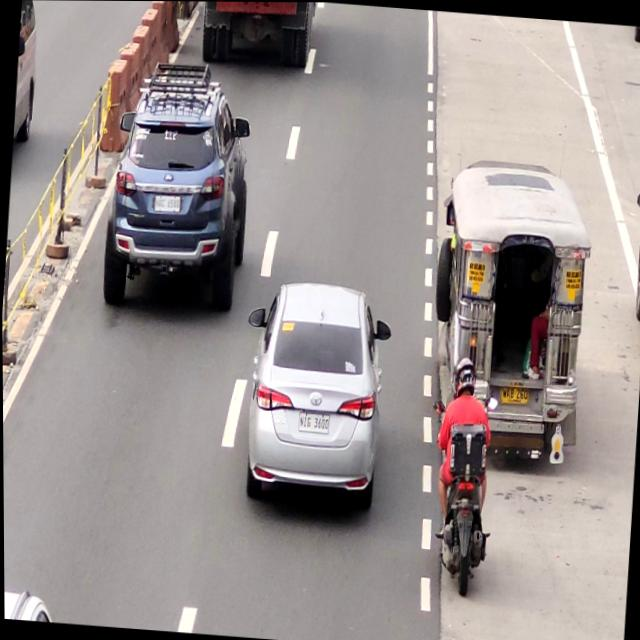Car: (97, 65, 255, 312), (242, 277, 390, 517)
Jeep: (427, 161, 593, 459)
License-Plate: (297, 413, 330, 436), (151, 193, 182, 215), (499, 384, 529, 404)
Motorcycle: (428, 355, 499, 594)
Truck: (200, 1, 312, 69)
